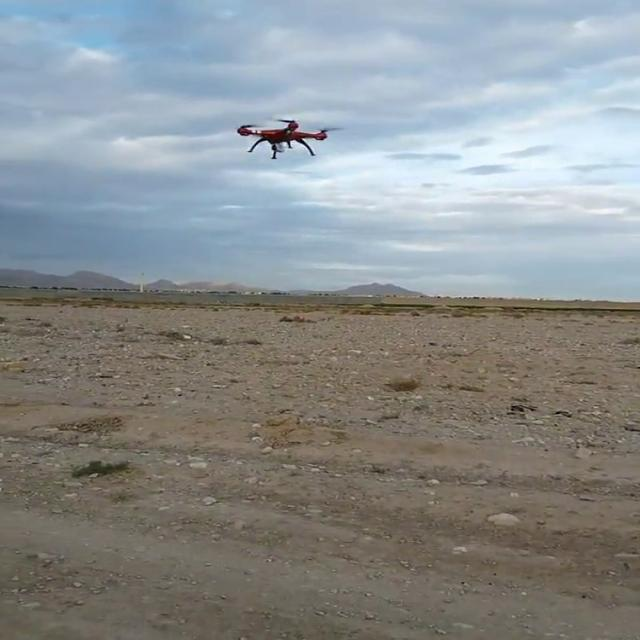drone: (227, 114, 347, 162)
